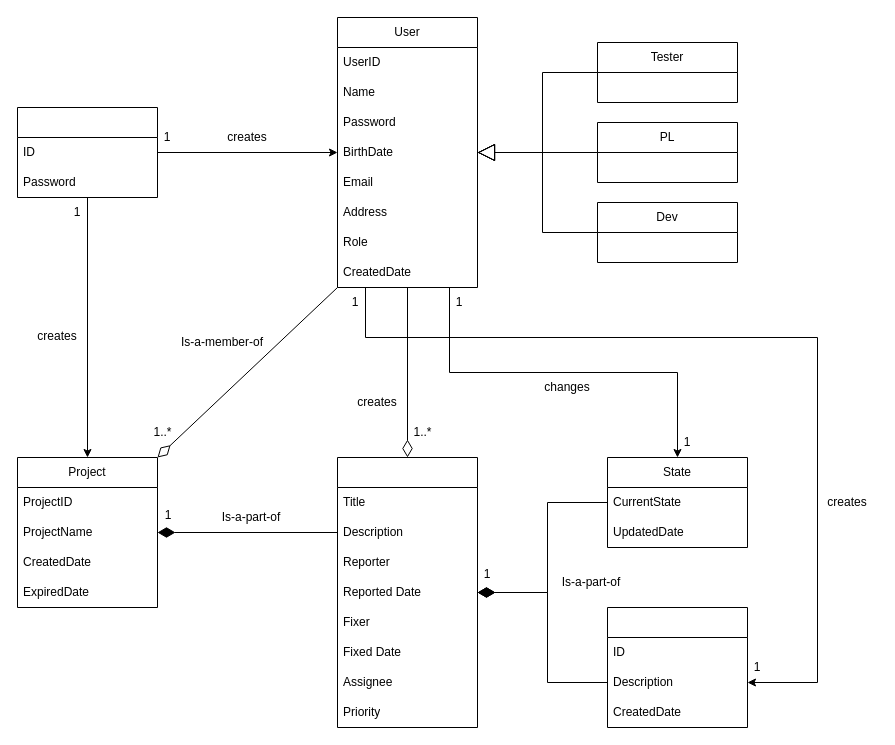
Image size: 895x745. Some labels were removed from this diagram. Here are the shapes that lost their labels. From the top down, the box of each, then its label:
(16, 106, 158, 198): Admin
(336, 456, 478, 728): Issue
(606, 606, 748, 728): Comment
